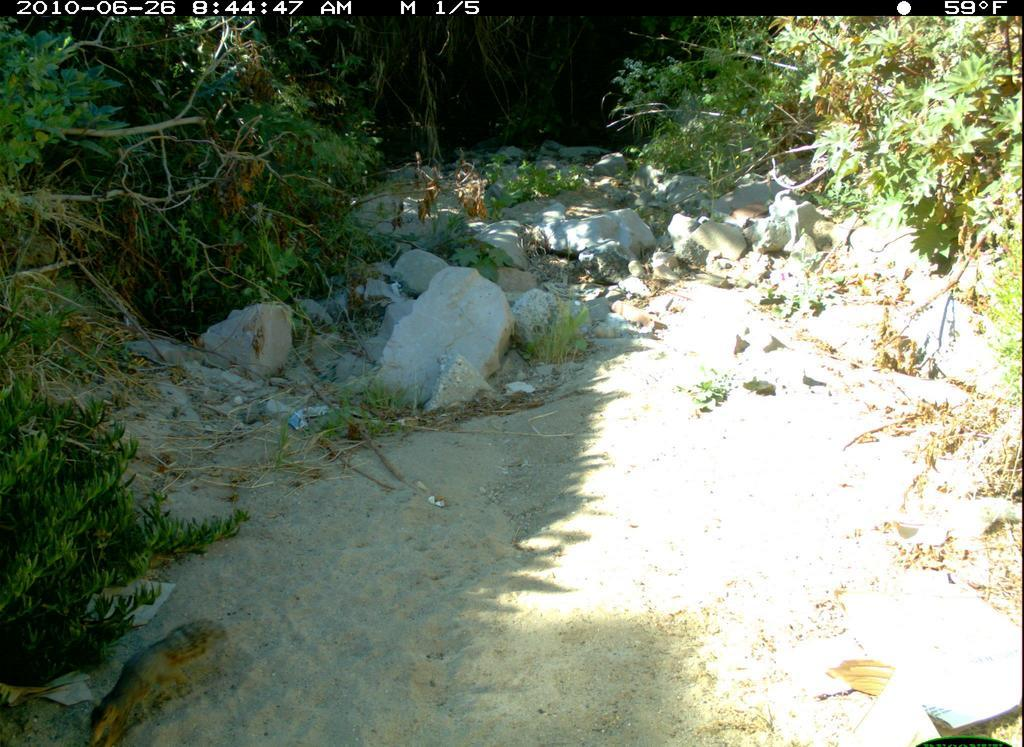squirrel: (75, 615, 239, 747)
